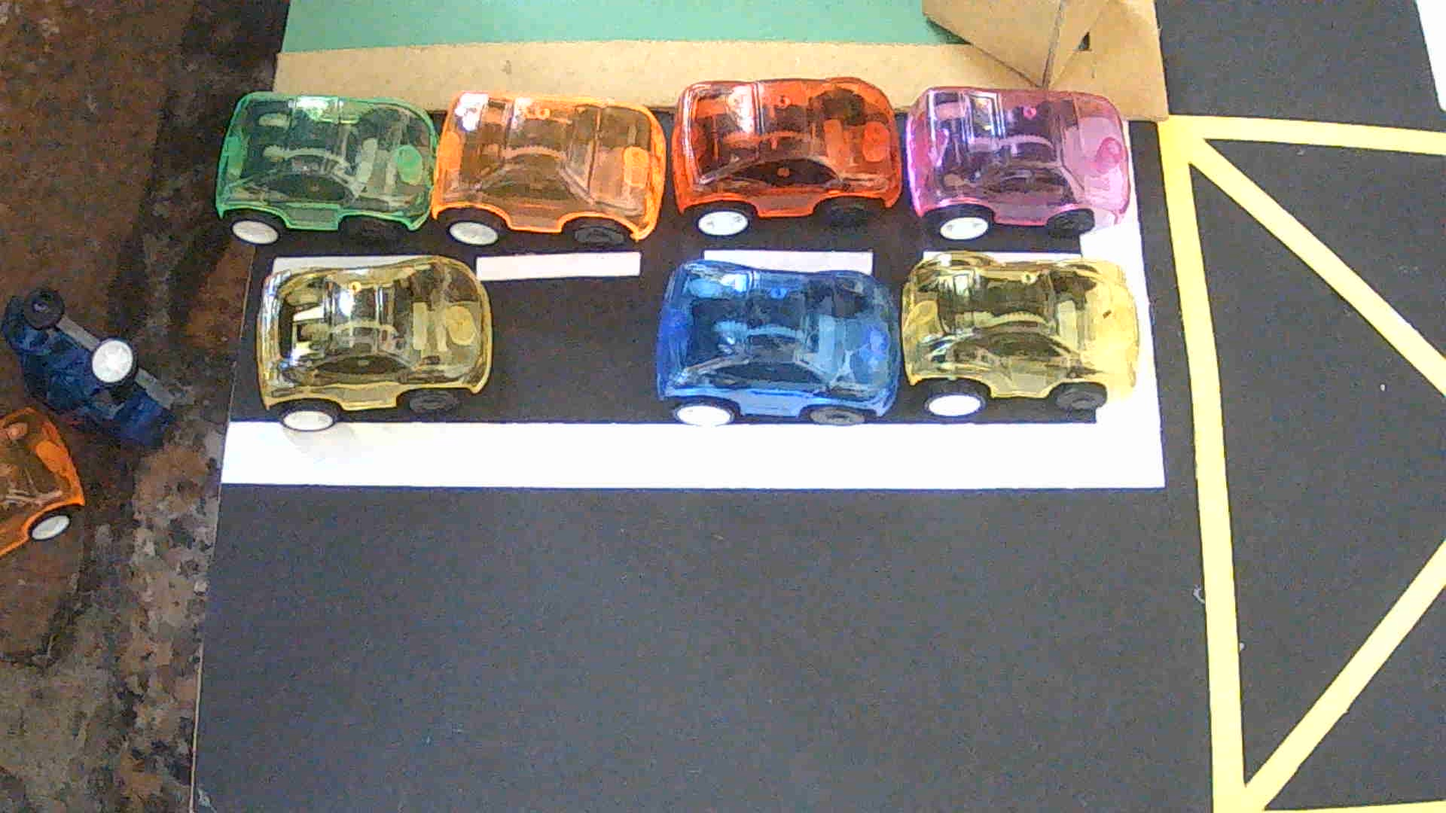Mobil biru: (656, 259, 901, 426)
Mobil hijau: (216, 92, 437, 245)
Mobil kuning: (256, 255, 493, 431), (901, 251, 1139, 419)
Mobil merah: (671, 78, 901, 236)
Mobil orange: (431, 92, 666, 246)
Mobil ungu: (905, 87, 1129, 242)
